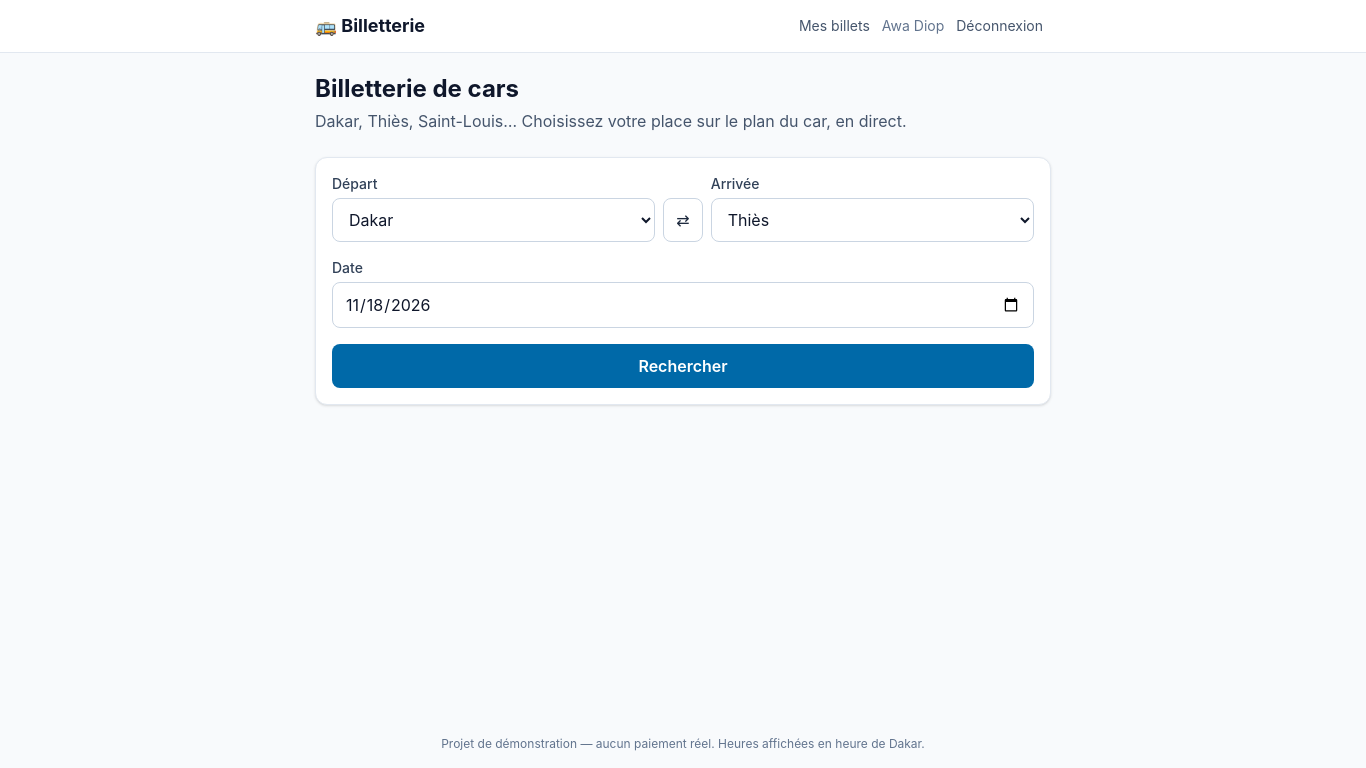
Test: mise en page › un toast se ferme seul, ou par son bouton
This screenshot has width=1366, height=768.
Step 1. Click the button "Déconnexion" → click(1000, 26), box [948, 10, 1051, 42]
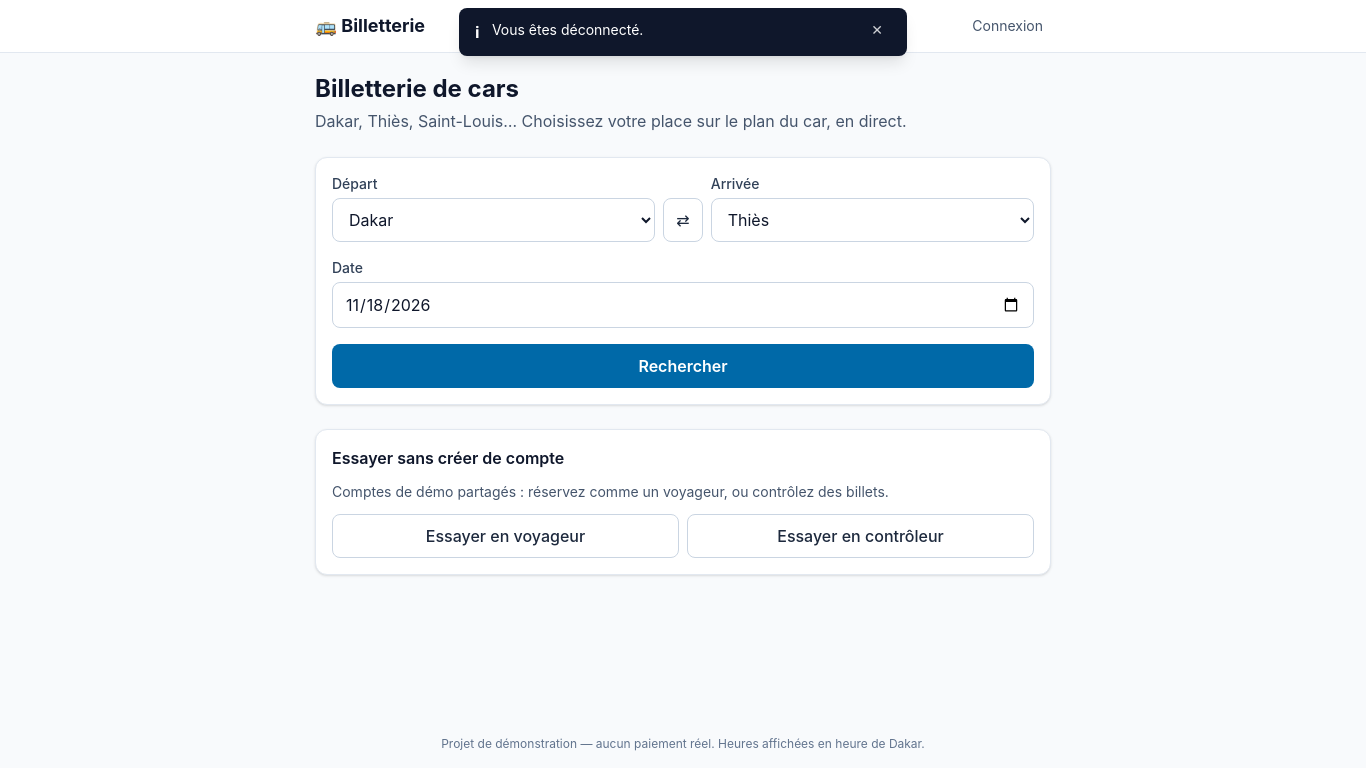
Step 2. Click the button named "Fermer la notification" → click(877, 30), box [863, 16, 891, 44]
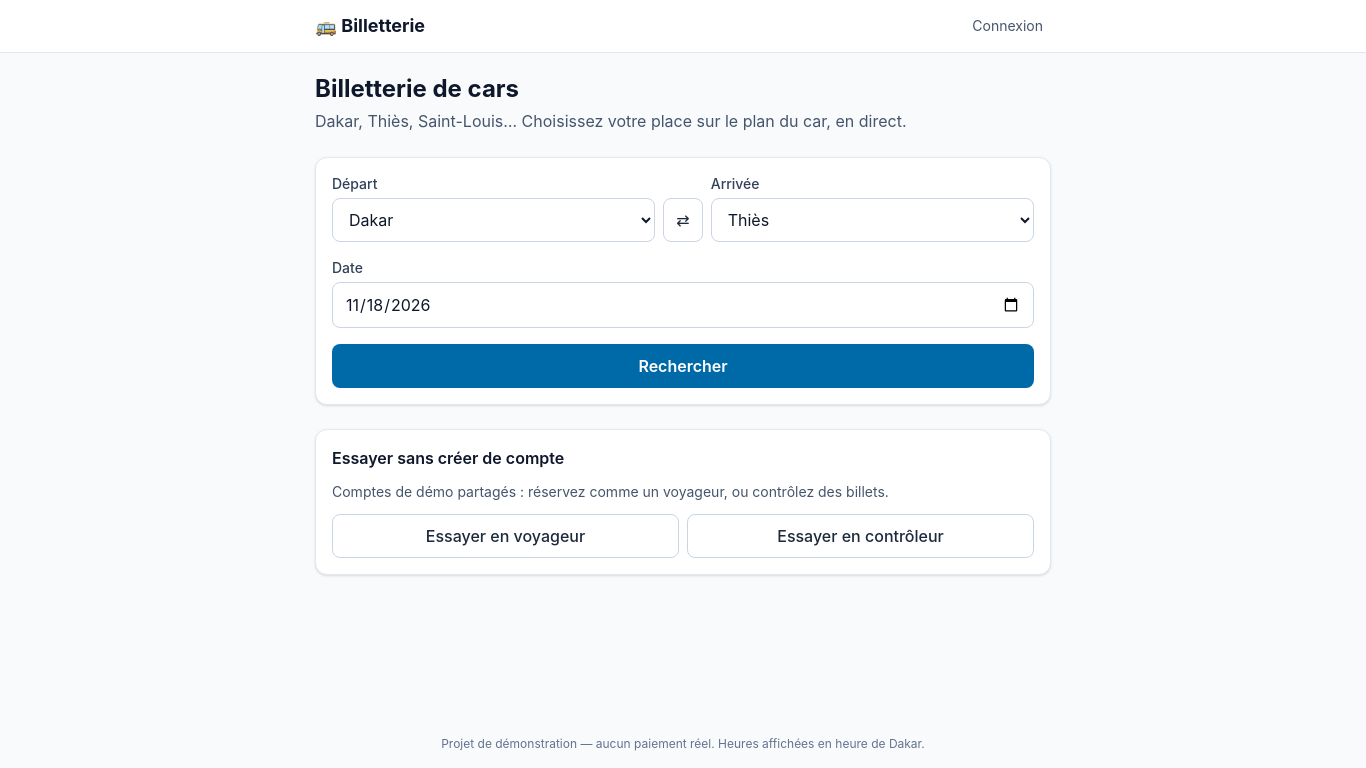
Expected: the text "Vous êtes déconnecté." is gone
